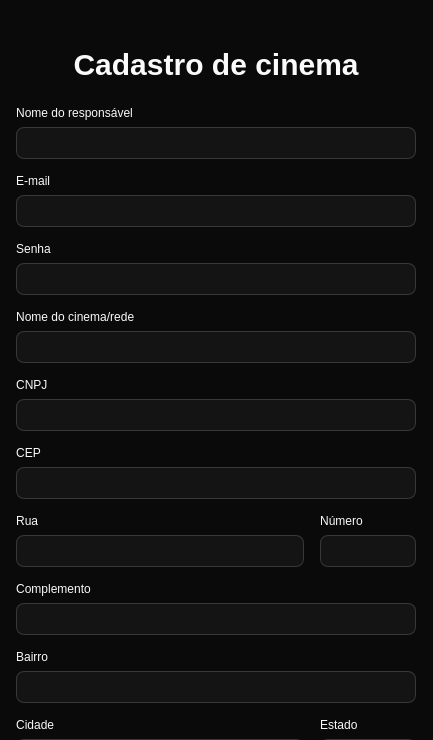
Scenario: CinemaRegisterForm › autofills address fields when the CEP lookup succeeds
Step 1. Type "01310-100" into the field labelled "CEP" → (216, 483), box [16, 467, 416, 499]
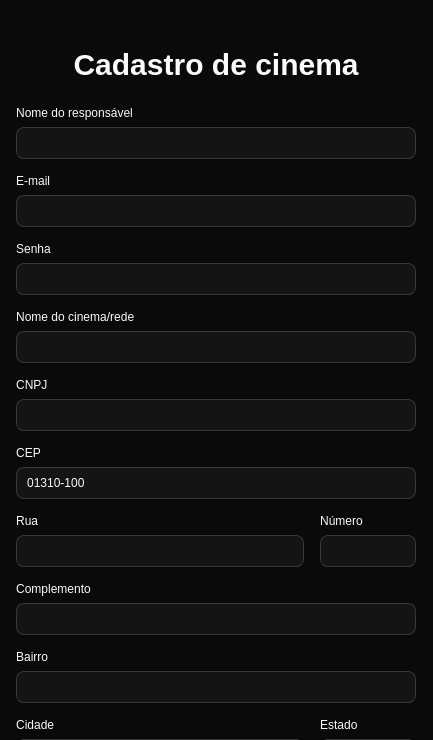
Step 2. Leave the field labelled "CEP", box [16, 467, 416, 499]
(page scrolled)
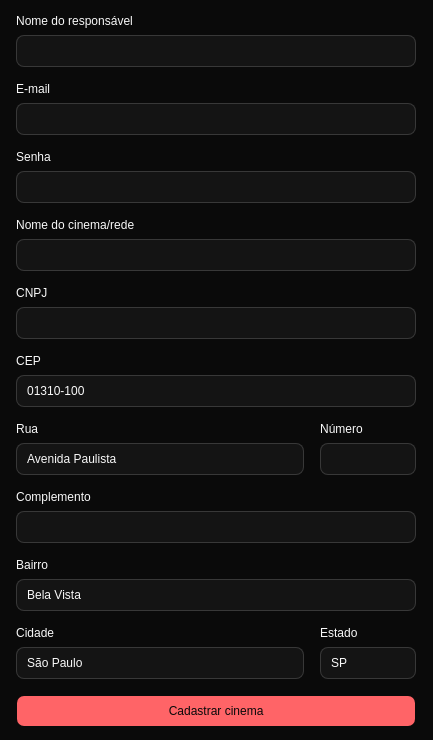
Expected: the field labelled "Rua" holds "Avenida Paulista", [16, 443, 304, 475]
Expected: the field labelled "Bairro" holds "Bela Vista", [16, 579, 416, 611]
Expected: the field labelled "Cidade" holds "São Paulo", [16, 647, 304, 679]
